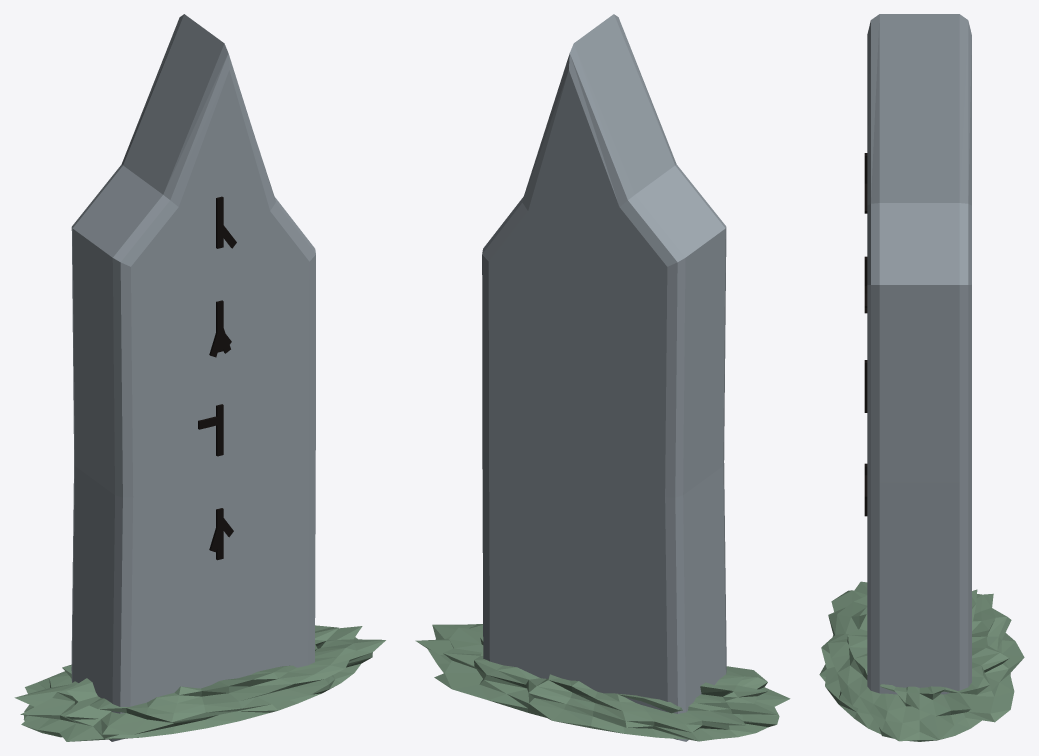
The model's file is dragonspine-carving-stone.glb.
The picture shows the model from 3 angles, left to right: view 1: azimuth 30°, elevation 25°; view 2: azimuth 150°, elevation 25°; view 3: azimuth 270°, elevation 25°; orthographic projection.
Visible parts, largest first — view 1: Body_Stone, Body_Plant, Body_Dark; view 2: Body_Stone, Body_Plant; view 3: Body_Stone, Body_Plant, Body_Dark.
Part boxes in pixels (x1,y1,x2,y2): Body_Stone: (71, 14, 315, 741); Body_Plant: (14, 625, 385, 741); Body_Dark: (198, 196, 236, 560); Body_Stone: (482, 14, 726, 741); Body_Plant: (415, 624, 790, 741); Body_Stone: (867, 14, 971, 694); Body_Plant: (819, 581, 1024, 741); Body_Dark: (864, 153, 867, 516).
Bounding box in the file's own units: 1 × 1.8 × 0.5.
